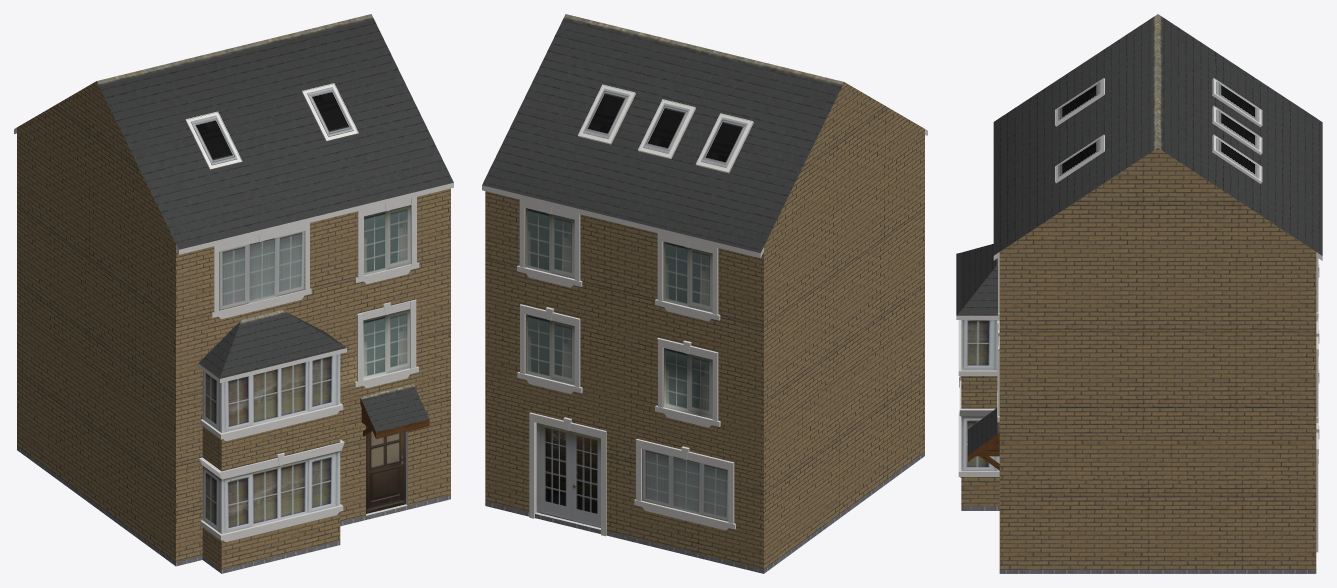
File: modernterrace3story3b.FBX
3 views of the same model, side by side, from view 1: azimuth 30°, elevation 25°; view 2: azimuth 150°, elevation 25°; view 3: azimuth 270°, elevation 25° (orthographic).
Visible parts, largest first — view 1: Box001; view 2: Box001; view 3: Box001.
Part boxes in pixels (bbox=[...]): Box001: bbox=[14, 14, 453, 573]; Box001: bbox=[482, 14, 927, 573]; Box001: bbox=[956, 14, 1322, 573].
Bounding box in the file's own units: 800 × 1188 × 925.
